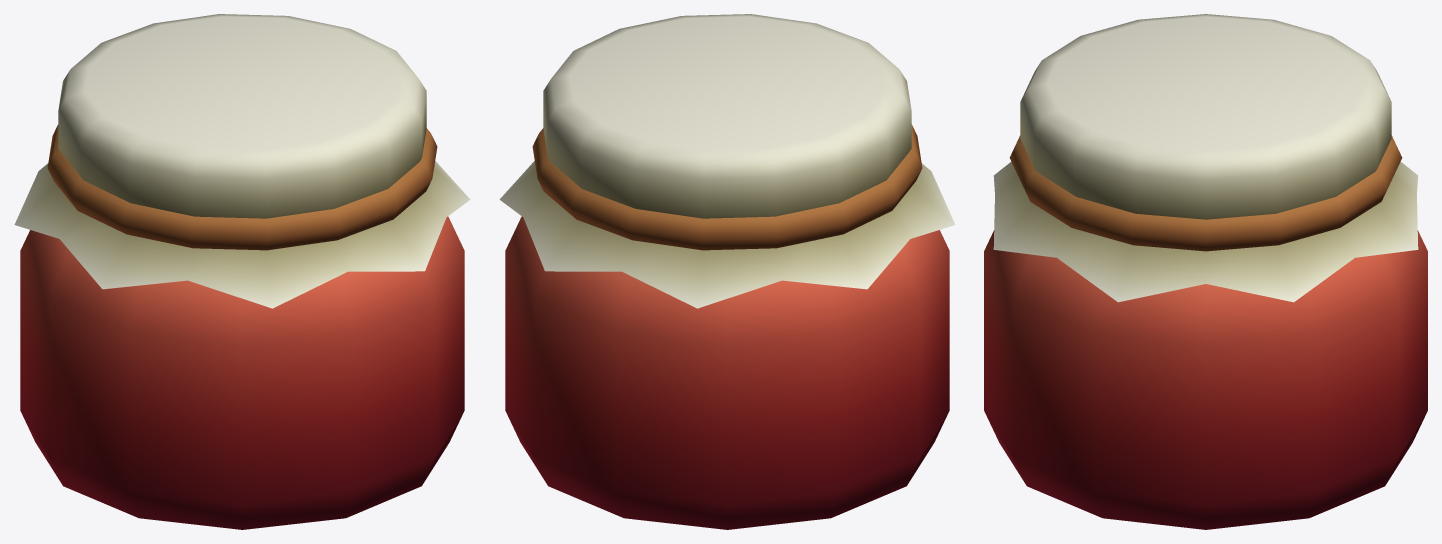
The model's file is Jam_Round_01.glb.
The picture shows the model from 3 angles, left to right: view 1: azimuth 30°, elevation 25°; view 2: azimuth 150°, elevation 25°; view 3: azimuth 270°, elevation 25°; orthographic projection.
Parts seen in each view (by area): view 1: Jam_Round_01; view 2: Jam_Round_01; view 3: Jam_Round_01.
Part boxes in pixels (<box>): Jam_Round_01: <box>14,14,470,529</box>; Jam_Round_01: <box>499,14,955,529</box>; Jam_Round_01: <box>984,14,1427,529</box>.
Size of the model in its own units: 0.3507 by 0.3243 by 0.3507.
1 material, 1 textured.
